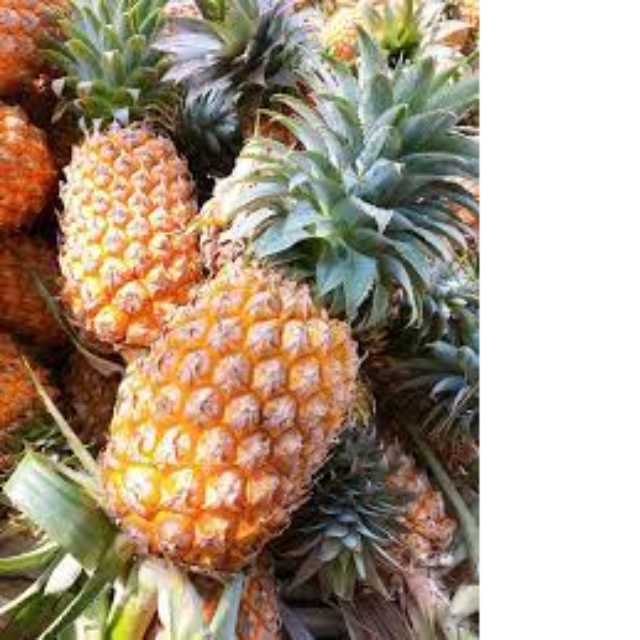thom: (99, 236, 369, 585), (50, 90, 215, 346)
